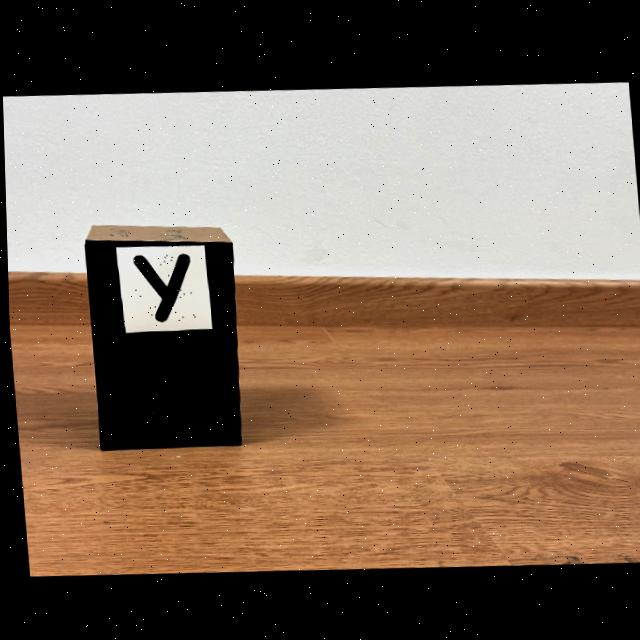Y: (132, 253, 189, 321)
